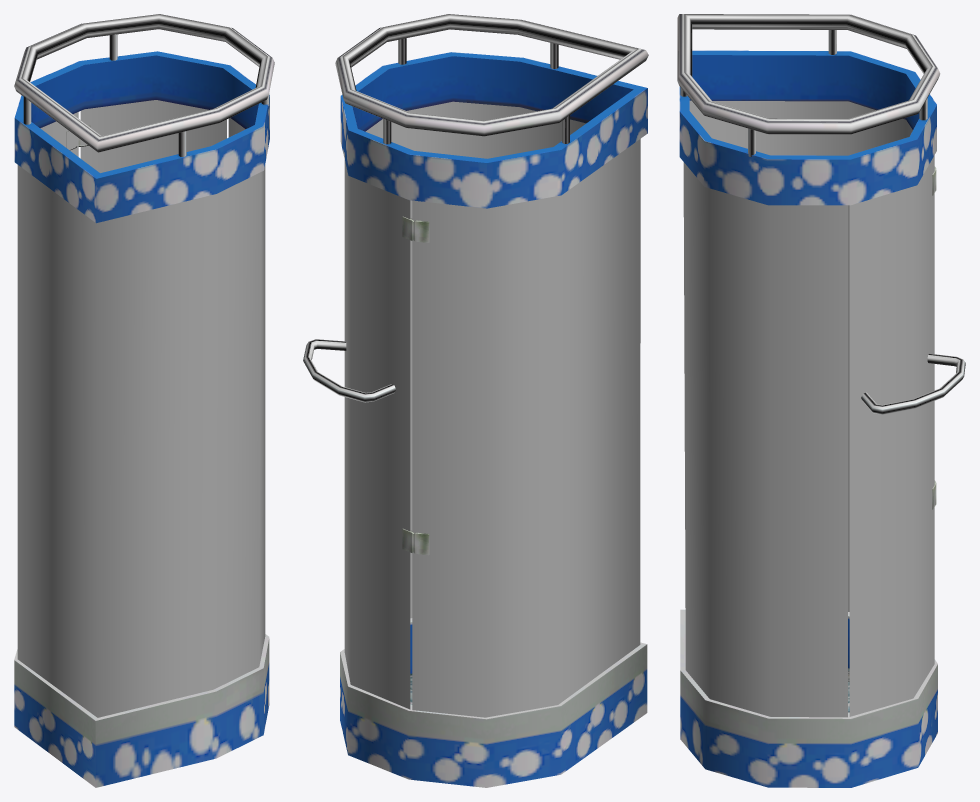
The model's file is furni_0200526.FBX.
3 views of the same model, side by side, from view 1: azimuth 30°, elevation 25°; view 2: azimuth 150°, elevation 25°; view 3: azimuth 270°, elevation 25° (orthographic). The views are drawn at different scales.
Visible parts, largest first — view 1: furni_0200526; view 2: furni_0200526; view 3: furni_0200526.
Part boxes in pixels (x1,y1,x2,y2): furni_0200526: (14,14,274,787); furni_0200526: (303,14,648,787); furni_0200526: (677,14,965,787).
Bounding box in the file's own units: 76.92 × 203 × 79.46.
